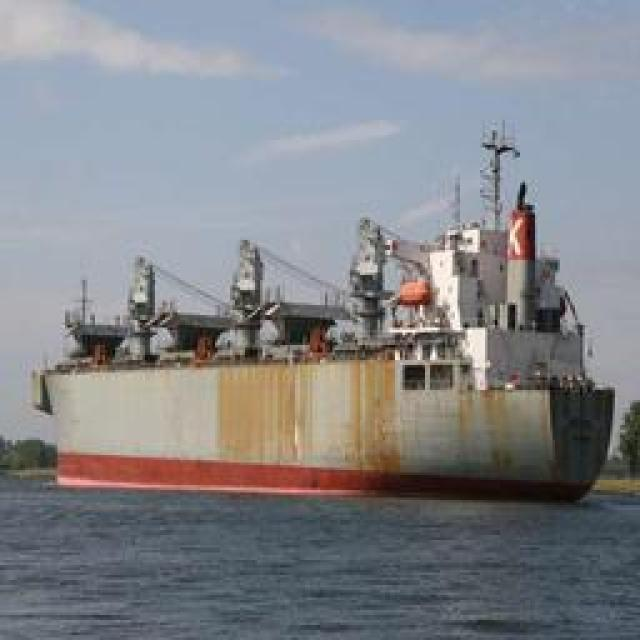CIV_Ship: (29, 160, 622, 500)
